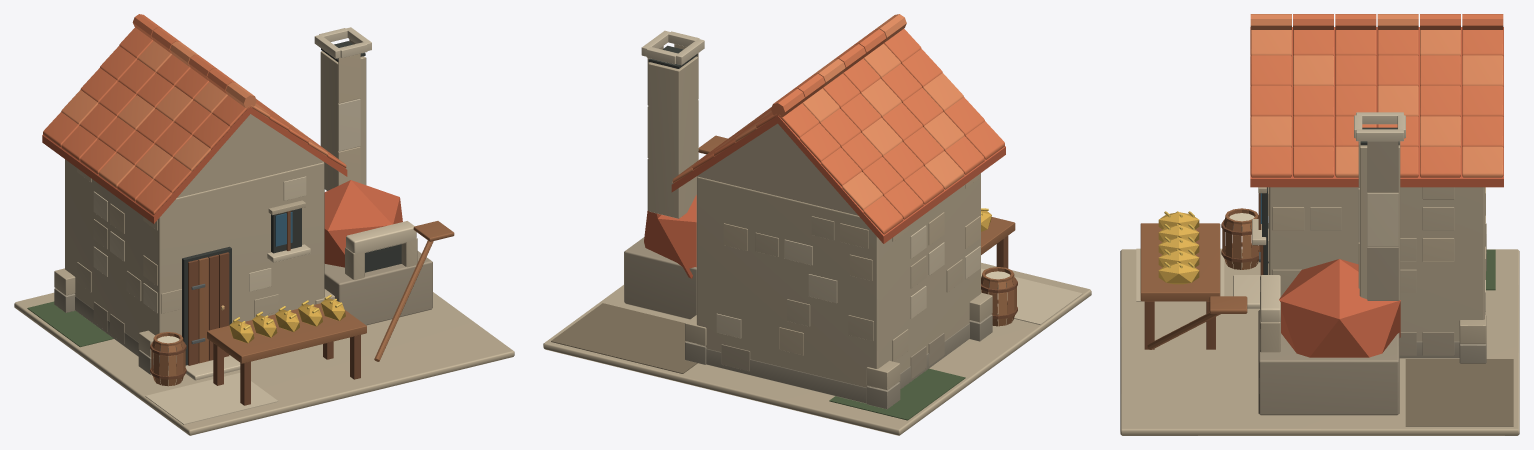
Rendered from bakery.glb.
3 renders of one model, left to right at view 1: azimuth 30°, elevation 25°; view 2: azimuth 150°, elevation 25°; view 3: azimuth 270°, elevation 25°, orthographic. The views are drawn at different scales.
Parts seen in each view (by area): view 1: bakery; view 2: bakery; view 3: bakery.
Part boxes in pixels (x1=…): bakery: x1=14, y1=14, x2=514, y2=435; bakery: x1=543, y1=14, x2=1091, y2=435; bakery: x1=1120, y1=14, x2=1519, y2=435.
Size of the model in its own units: 2.85 by 2.26 by 2.66.
